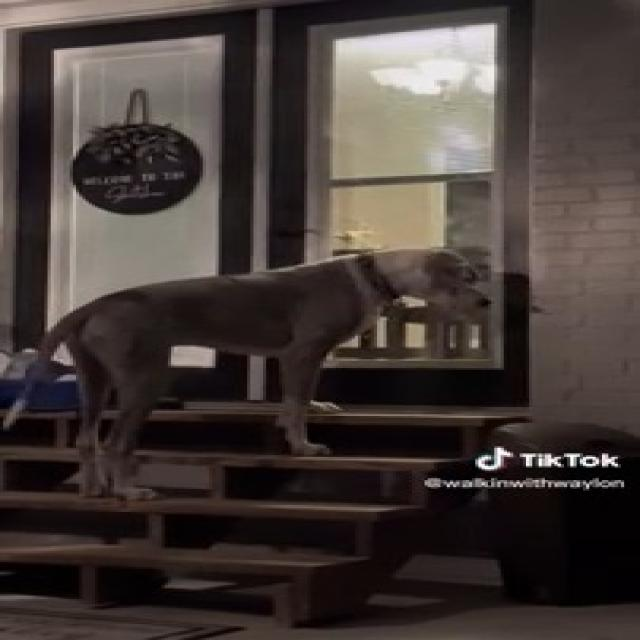dogs: (30, 237, 509, 496)
